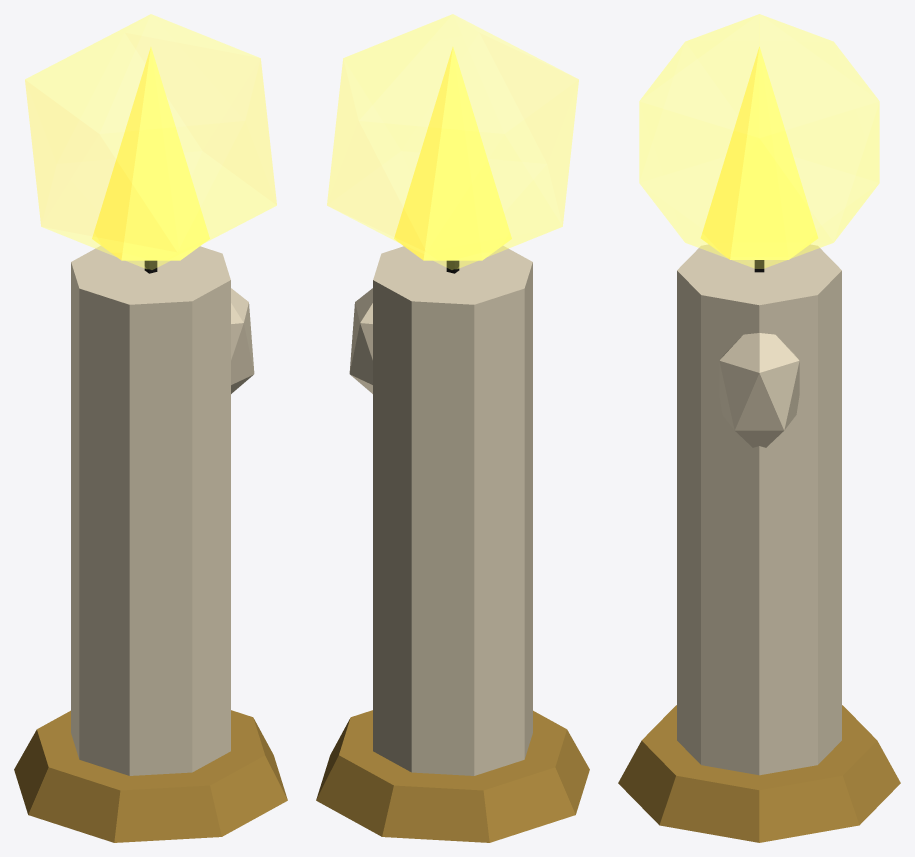
The model's file is candle.glb.
3 renders of one model, left to right at view 1: azimuth 30°, elevation 25°; view 2: azimuth 150°, elevation 25°; view 3: azimuth 270°, elevation 25°, orthographic.
Visible parts, largest first — view 1: Wax, FlameGlow, Dish, Flame.002, Drip; view 2: Wax, FlameGlow, Dish, Flame.002, Drip; view 3: Wax, FlameGlow, Dish, Flame.002, Drip.
Boxes of the visible parts, x1,y1,x2,y2 form: Wax: [71, 246, 230, 775]; FlameGlow: [25, 14, 276, 269]; Dish: [14, 710, 287, 842]; Flame.002: [92, 47, 209, 260]; Drip: [231, 288, 254, 393]; Wax: [373, 246, 532, 775]; FlameGlow: [327, 14, 578, 269]; Dish: [316, 710, 589, 842]; Flame.002: [394, 47, 511, 260]; Drip: [349, 288, 372, 393]; Wax: [677, 244, 841, 775]; FlameGlow: [639, 14, 879, 268]; Dish: [618, 705, 900, 842]; Flame.002: [701, 46, 817, 259]; Drip: [719, 333, 799, 447].
Size of the model in its own units: 0.12 by 0.36 by 0.12.
